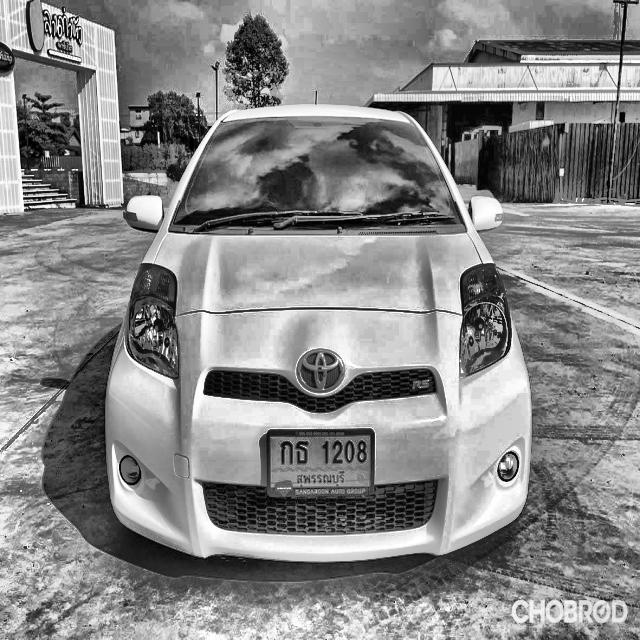license-plate: (259, 422, 380, 508)
